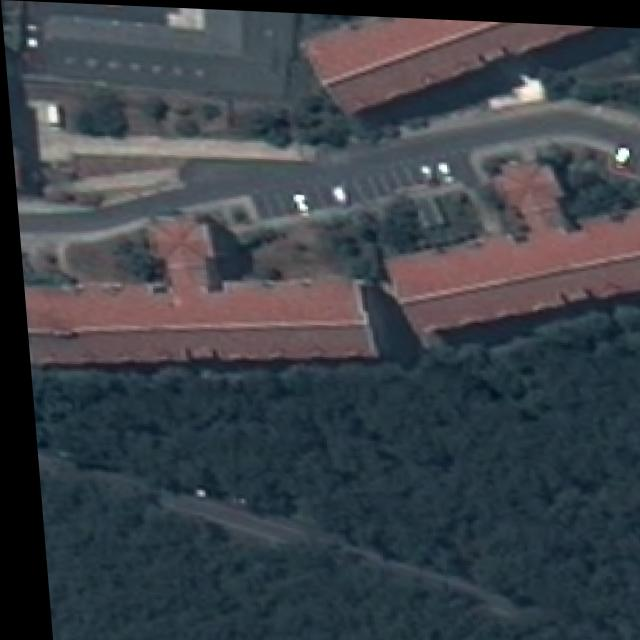Batiment: (22, 219, 372, 363), (381, 156, 640, 331), (303, 13, 616, 111)
